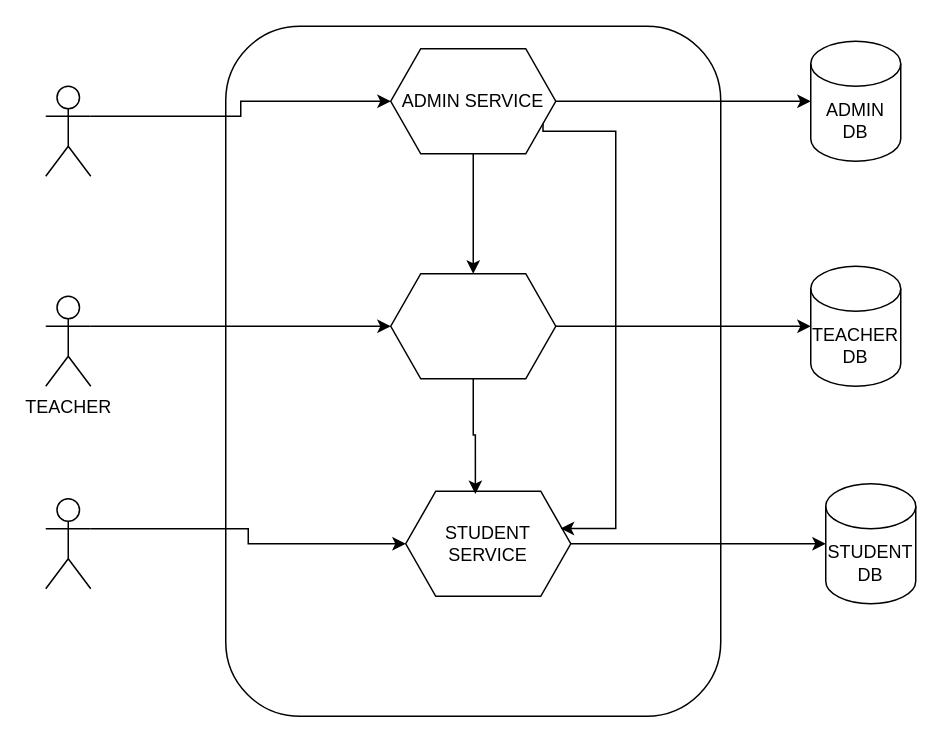
Some shapes in this 942 by 755 pixel diagram are drawn without their labels. Here are the shapes that lost their labels. From the top down, the box of each, then its label:
(44, 85, 91, 176): ADMIN
(389, 272, 556, 379): TEACHER SERVICE
(44, 497, 91, 589): STUDENT
